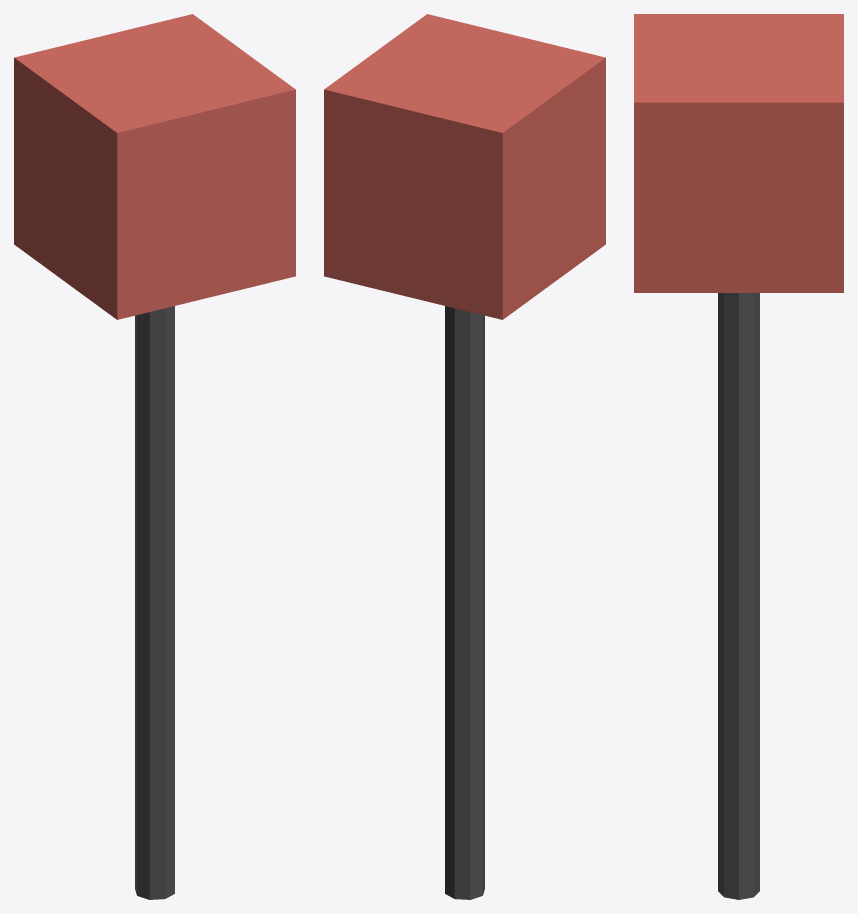
Rendered from channel_daybeacon.glb.
3 views of the same model, side by side, from view 1: azimuth 30°, elevation 25°; view 2: azimuth 150°, elevation 25°; view 3: azimuth 270°, elevation 25° (orthographic).
Parts seen in each view (by area): view 1: beacon, pole; view 2: beacon, pole; view 3: beacon, pole.
Part boxes in pixels (x1,y1,x2,y2): beacon: [14, 14, 295, 319]; pole: [135, 306, 174, 899]; beacon: [324, 14, 605, 319]; pole: [445, 306, 484, 899]; beacon: [634, 14, 843, 292]; pole: [718, 293, 759, 899].
Size of the model in its own units: 0.7998 by 3.5 by 0.7998.
